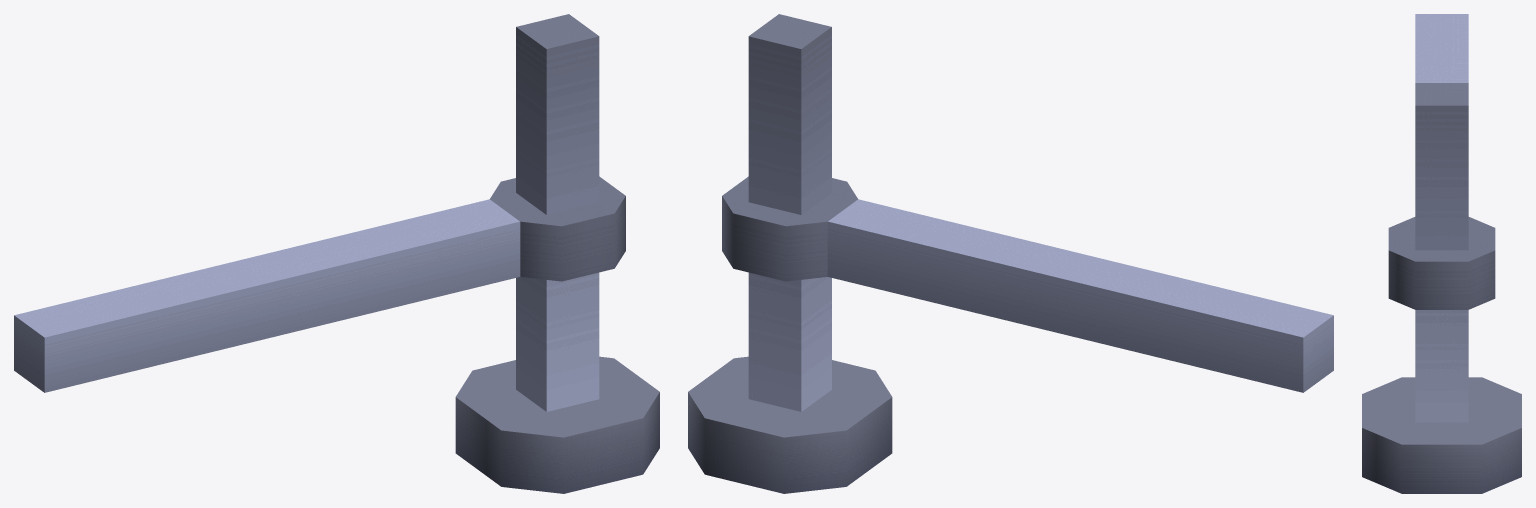
The model's file is fence.glb.
3 views of the same model, side by side, from view 1: azimuth 30°, elevation 25°; view 2: azimuth 150°, elevation 25°; view 3: azimuth 270°, elevation 25° (orthographic). The views are drawn at different scales.
Parts seen in each view (by area): view 1: fence; view 2: fence; view 3: fence.
Part boxes in pixels (bbox=[...]): fence: bbox=[14, 14, 659, 493]; fence: bbox=[688, 14, 1333, 493]; fence: bbox=[1362, 14, 1521, 493].
Bounding box in the file's own units: 0.575 × 0.379 × 0.15.
Materials: 1 (1 with a texture image).
